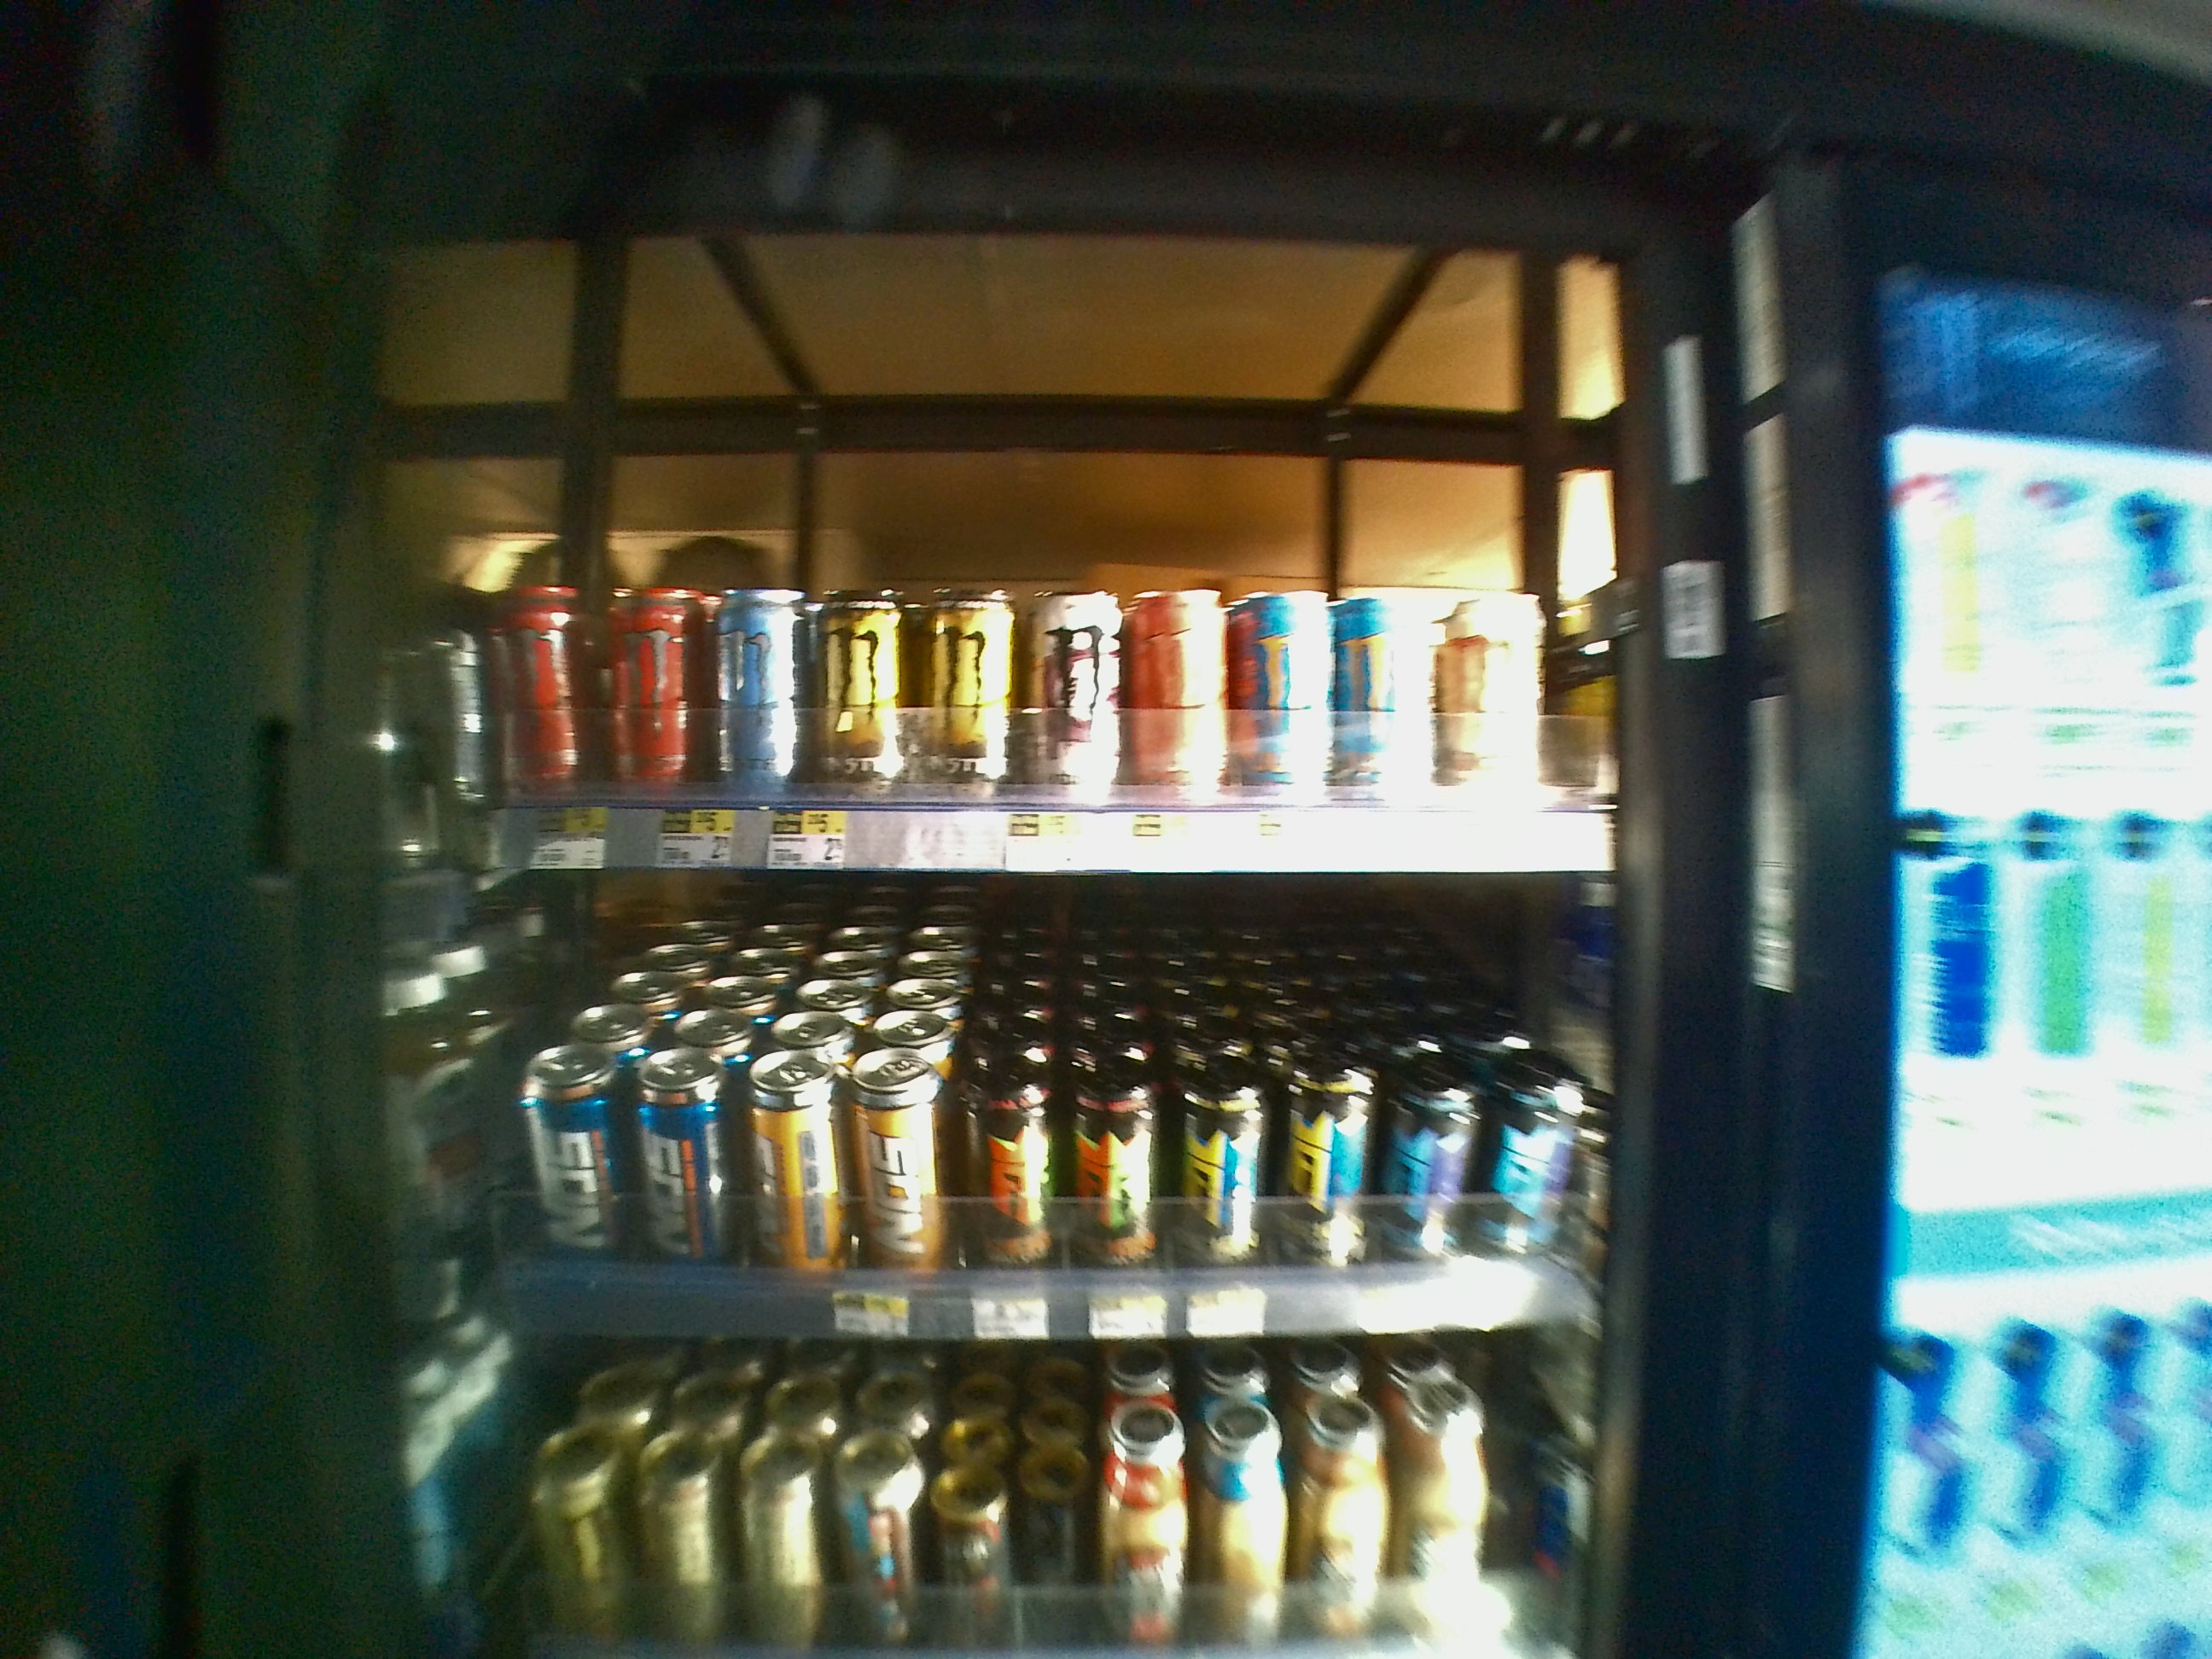shelf: (364, 244, 1639, 878), (354, 871, 1644, 1330)
